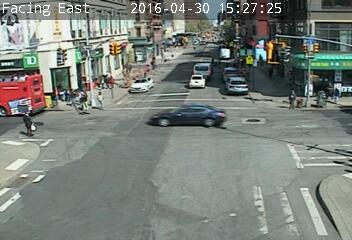neg: (15, 45, 36, 73), (272, 38, 291, 63), (6, 158, 24, 181), (327, 140, 344, 163), (54, 139, 70, 160), (324, 173, 339, 193), (191, 105, 204, 122), (243, 59, 255, 76), (14, 19, 26, 36), (153, 57, 165, 73), (238, 108, 250, 124), (71, 25, 82, 40), (325, 30, 336, 45), (251, 91, 262, 105), (116, 44, 126, 58), (180, 38, 188, 49), (214, 32, 222, 41)
pos: (17, 110, 37, 137), (285, 87, 302, 110), (78, 88, 95, 111), (330, 83, 346, 104), (93, 90, 109, 110), (62, 87, 77, 107), (106, 73, 118, 89)
